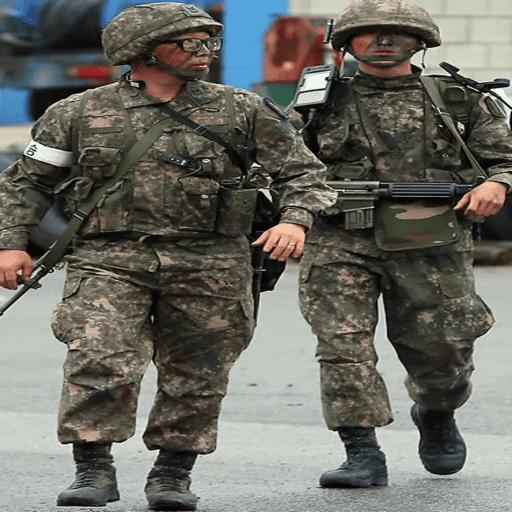korea army: (1, 2, 328, 507), (293, 0, 512, 486)
